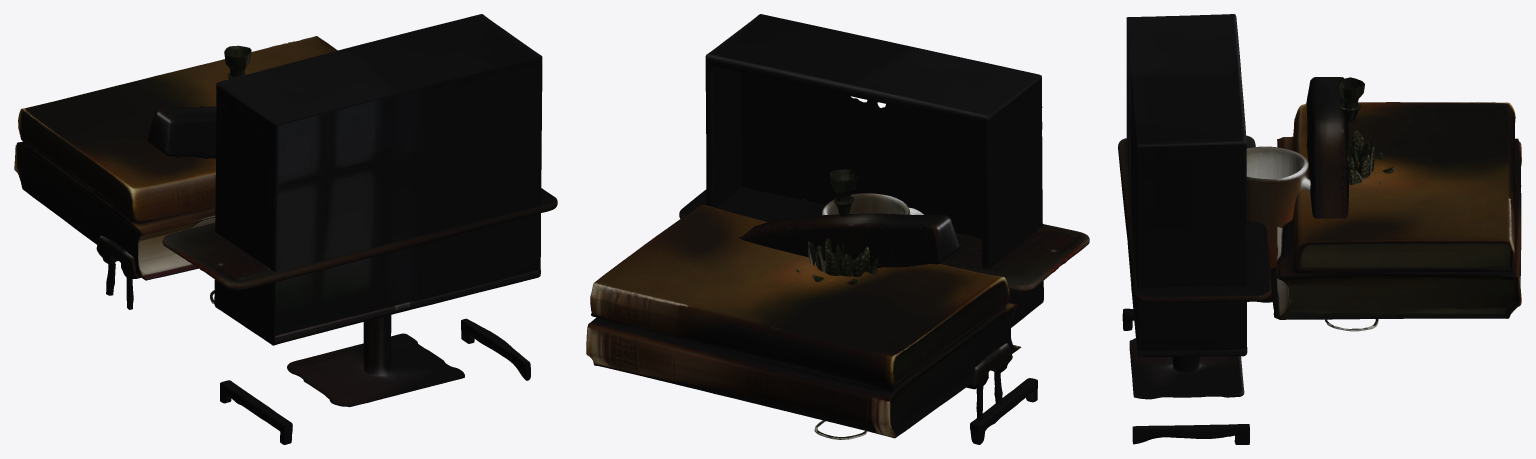
Rendered from scenegen.glb.
3 views of the same model, side by side, from view 1: azimuth 30°, elevation 25°; view 2: azimuth 150°, elevation 25°; view 3: azimuth 270°, elevation 25° (orthographic). The views are drawn at different scales.
Parts seen in each view (by area): view 1: geometry_4, geometry_0, geometry_1, geometry_3, geometry_2; view 2: geometry_0, geometry_4, geometry_3, geometry_1, geometry_2, geometry_5; view 3: geometry_0, geometry_4, geometry_3, geometry_1, geometry_5, geometry_2.
Boxes of the visible parts, <box> form: geometry_4: <box>214,14,542,444</box>; geometry_0: <box>14,36,337,280</box>; geometry_1: <box>162,188,557,290</box>; geometry_3: <box>96,106,216,309</box>; geometry_2: <box>210,45,251,303</box>; geometry_0: <box>586,205,1020,438</box>; geometry_4: <box>705,14,1043,444</box>; geometry_3: <box>739,213,1012,419</box>; geometry_1: <box>679,187,1089,291</box>; geometry_2: <box>795,169,877,439</box>; geometry_5: <box>821,193,923,215</box>; geometry_0: <box>1271,102,1521,319</box>; geometry_4: <box>1122,14,1249,444</box>; geometry_3: <box>1306,77,1349,218</box>; geometry_1: <box>1118,135,1271,303</box>; geometry_5: <box>1246,146,1310,302</box>; geometry_2: <box>1325,77,1394,331</box>.
Size of the model in its own units: 1.87 by 1.67 by 1.96.
Materials: 6 (6 with a texture image).
